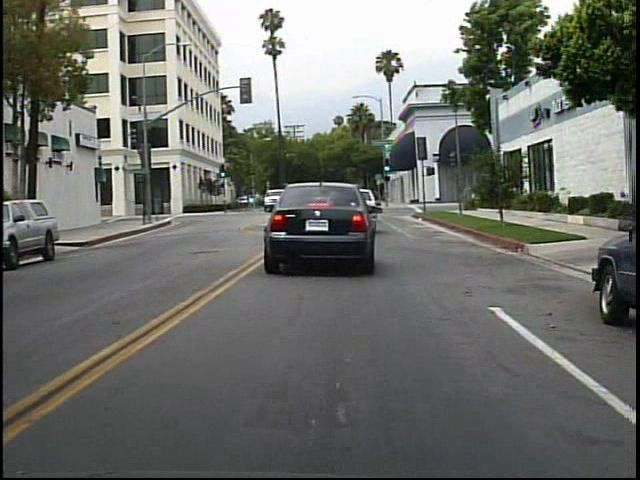person: (299, 182, 325, 221)
